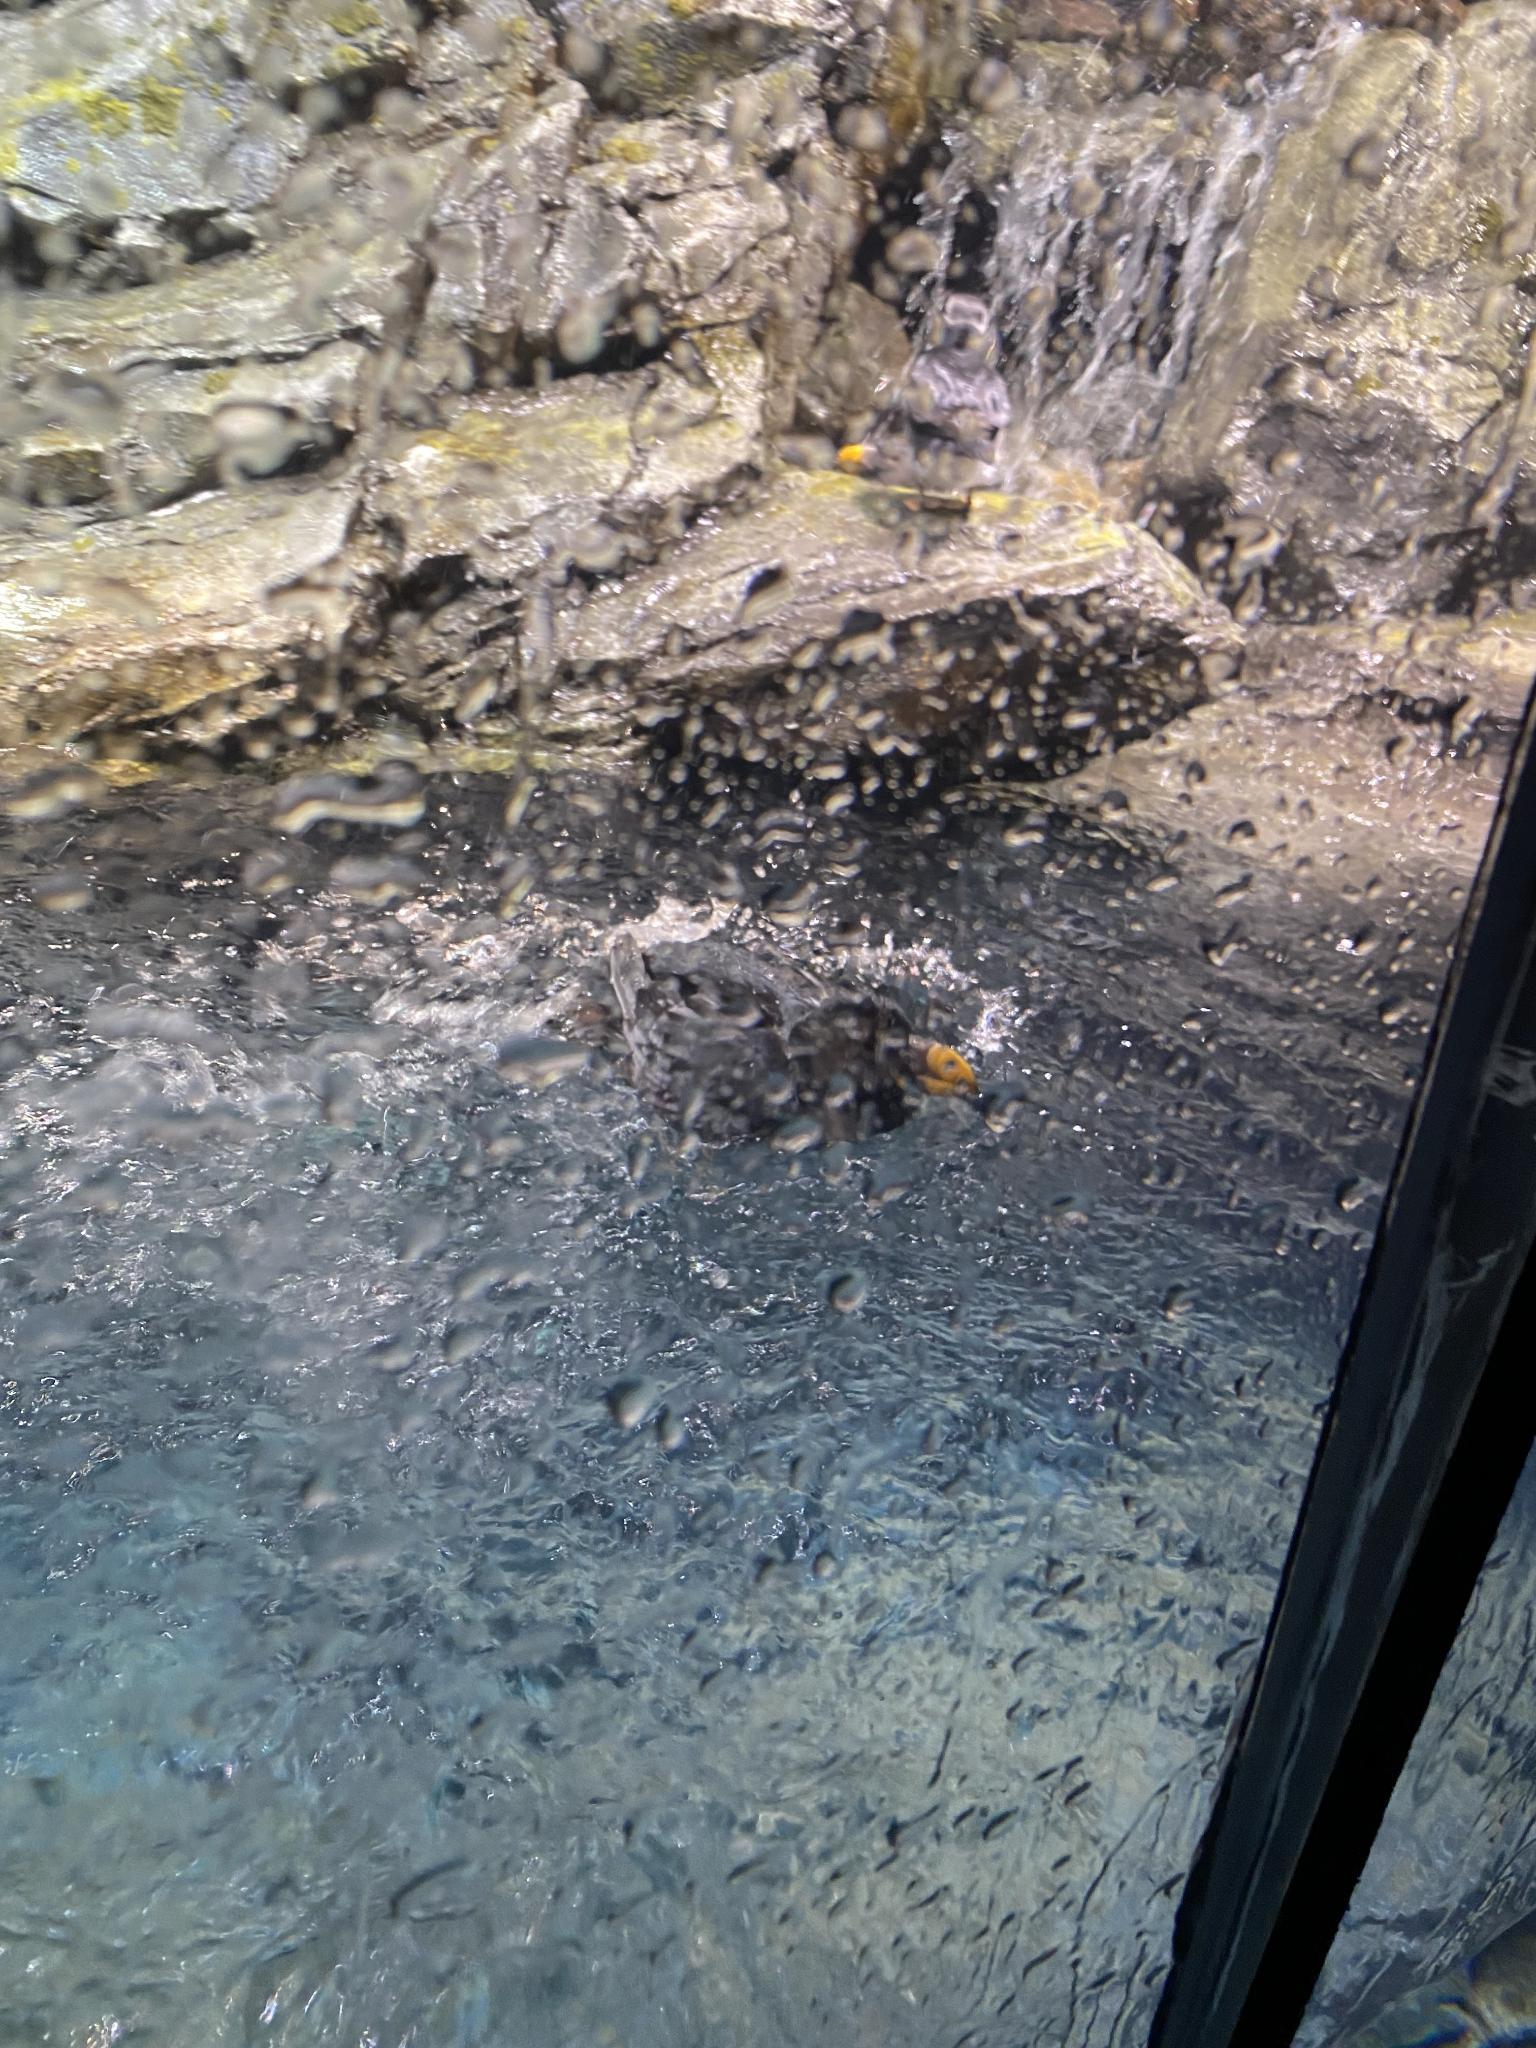puffin: (545, 935, 987, 1159), (833, 339, 1013, 532)
